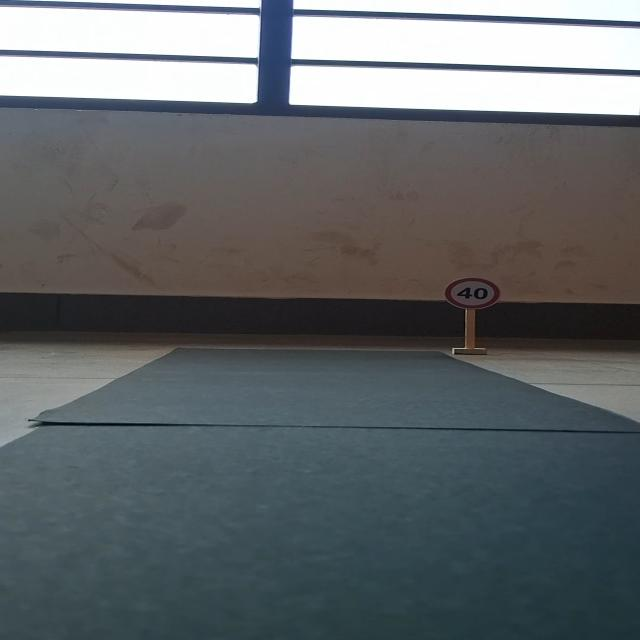Speed40: (443, 275, 507, 311)
